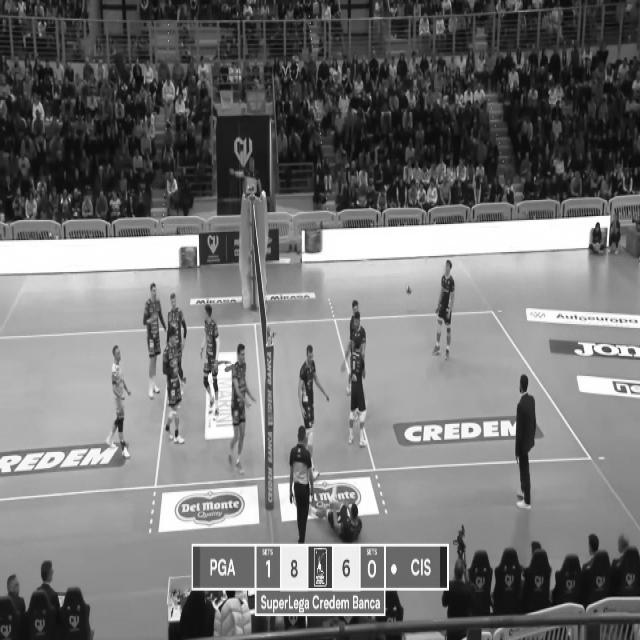volleyball court: (0, 308, 595, 499)
